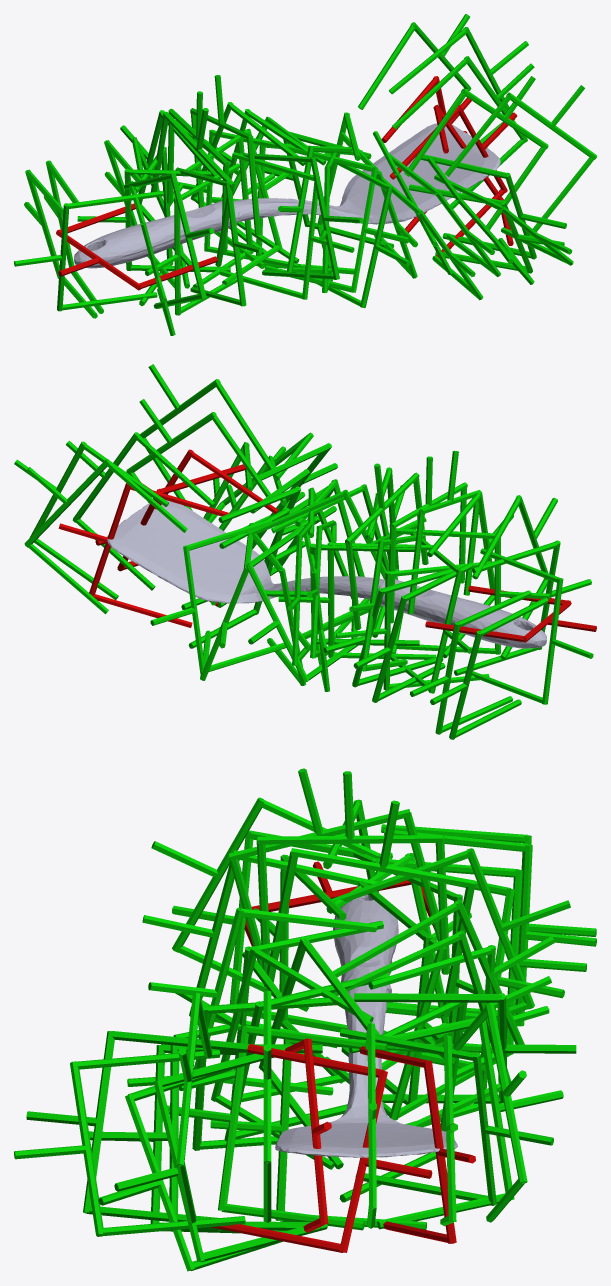
File: hunyuan_gt_grasps.glb
The picture shows the model from 3 angles, top to bottom: view 1: azimuth 30°, elevation 25°; view 2: azimuth 150°, elevation 25°; view 3: azimuth 270°, elevation 25°; orthographic projection. The views are drawn at different scales.
Visible parts, largest first — view 1: world; view 2: world; view 3: world.
Boxes of the visible parts, x1,y1,x2,y2 form: world: (14, 14, 596, 335); world: (14, 364, 596, 739); world: (14, 768, 596, 1271).
Size of the model in its own units: 0.4117 by 0.1608 by 0.2664.
